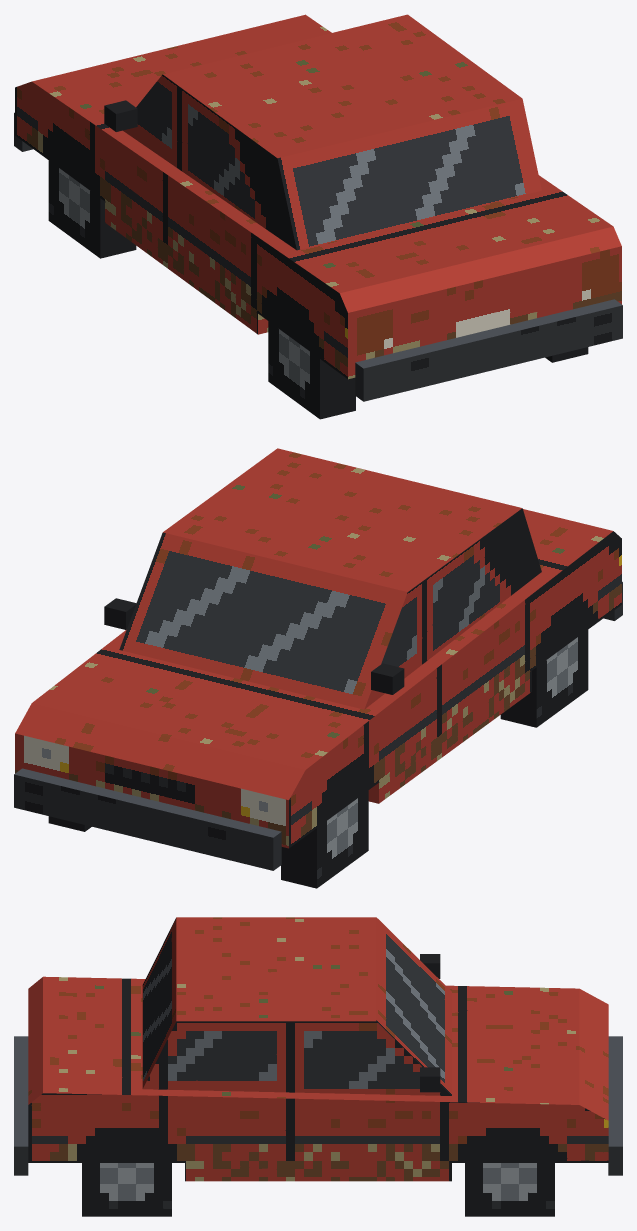
The model's file is car_red.glb.
The picture shows the model from 3 angles, top to bottom: view 1: azimuth 30°, elevation 25°; view 2: azimuth 150°, elevation 25°; view 3: azimuth 270°, elevation 25°; orthographic projection. The views are drawn at different scales.
Parts seen in each view (by area): view 1: car_red; view 2: car_red; view 3: car_red.
Part boxes in pixels (x1=…): car_red: x1=14, y1=14, x2=622, y2=419; car_red: x1=14, y1=448, x2=622, y2=888; car_red: x1=14, y1=917, x2=622, y2=1216.
Size of the model in its own units: 2 by 1.45 by 4.2.
Materials: 1 (1 with a texture image).
